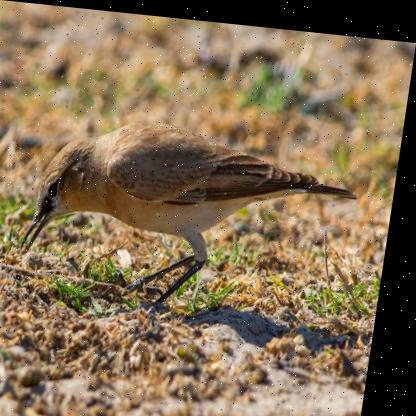Burung: (17, 112, 370, 322)
